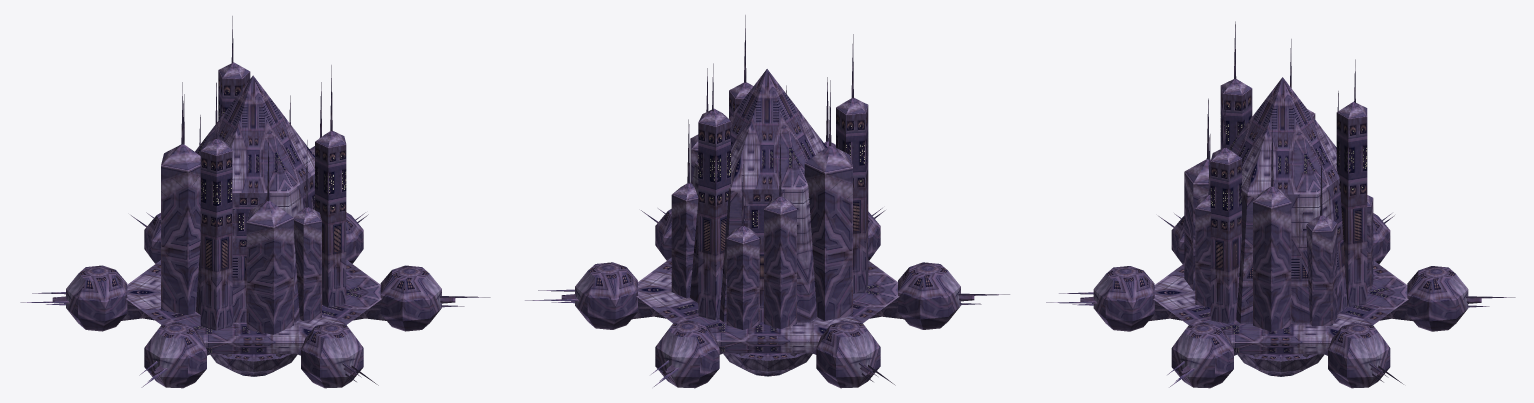
File: Dom_StarBase.fbx
The picture shows the model from 3 angles, left to right: view 1: azimuth 30°, elevation 25°; view 2: azimuth 150°, elevation 25°; view 3: azimuth 270°, elevation 25°; orthographic projection. The views are drawn at different scales.
Visible parts, largest first — view 1: Dom_StarBase; view 2: Dom_StarBase; view 3: Dom_StarBase.
Boxes of the visible parts, x1,y1,x2,y2 form: Dom_StarBase: [20, 16, 490, 388]; Dom_StarBase: [525, 15, 1009, 388]; Dom_StarBase: [1046, 21, 1515, 388].
Bounding box in the file's own units: 879 × 748 × 999.
Materials: 1 (1 with a texture image).
